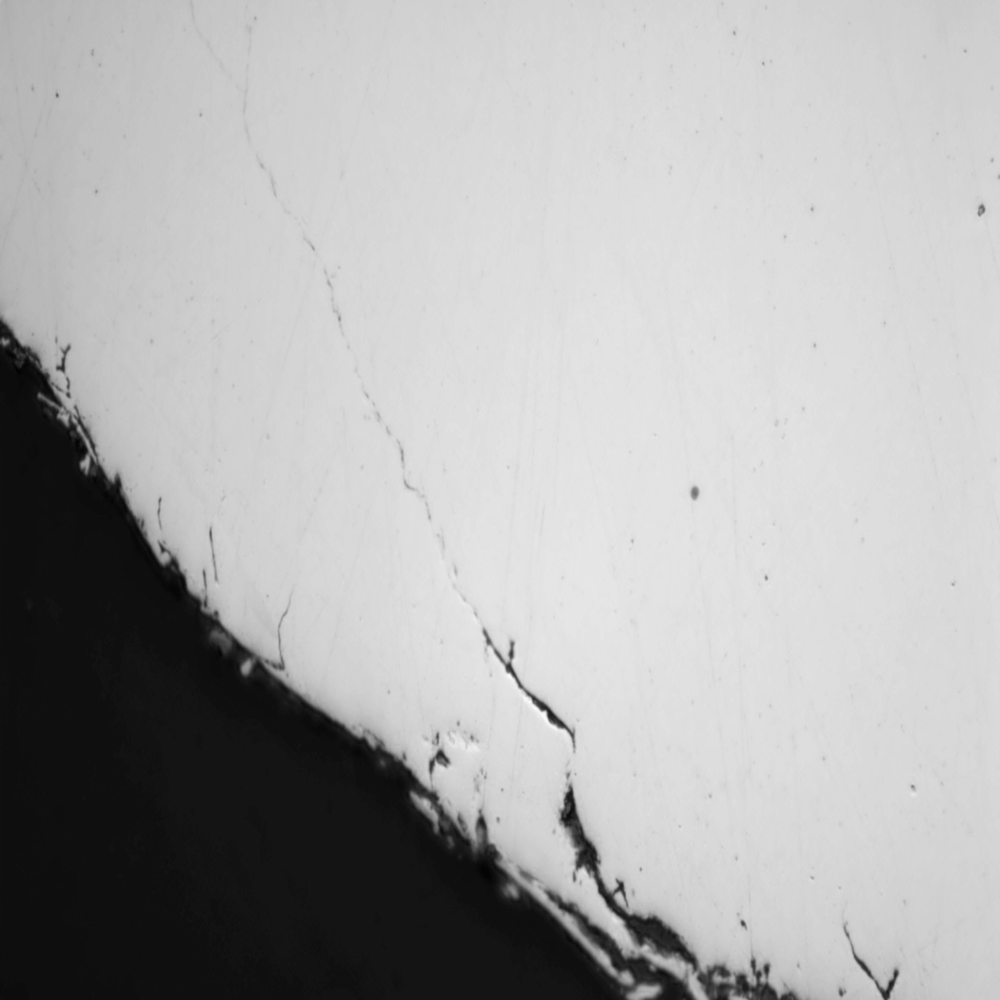crack: (160, 22, 765, 987)
